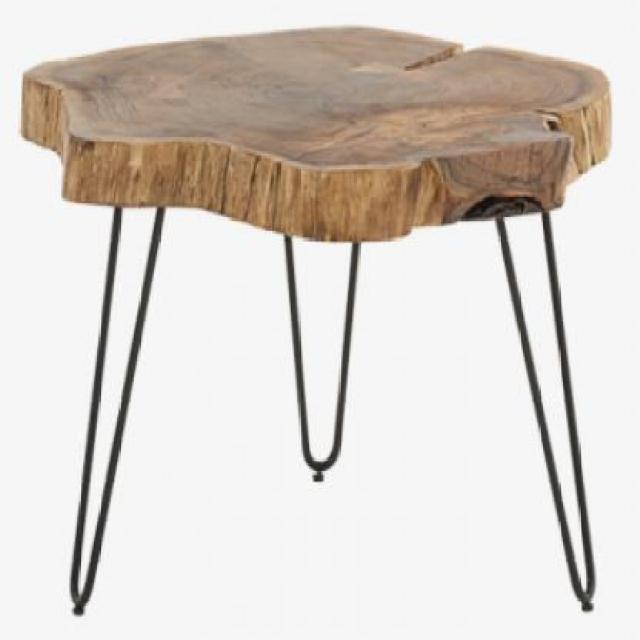table: (17, 20, 615, 618)
